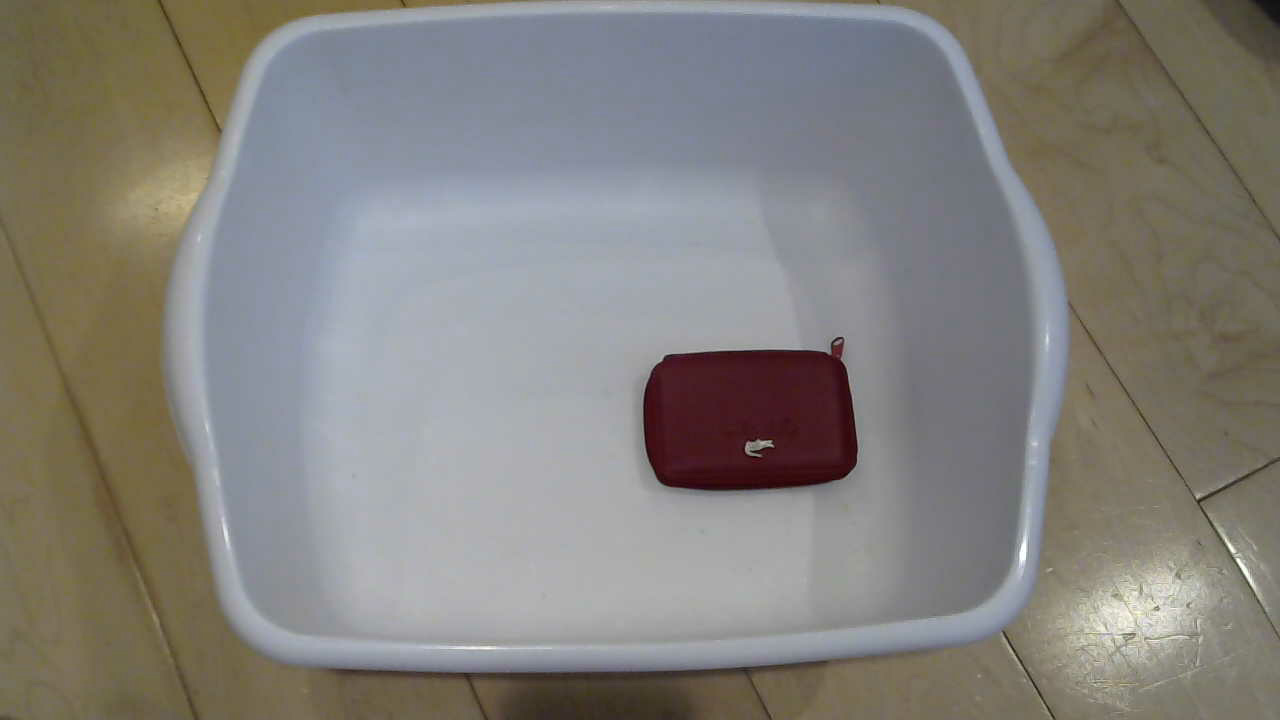wallet: (634, 341, 879, 510)
